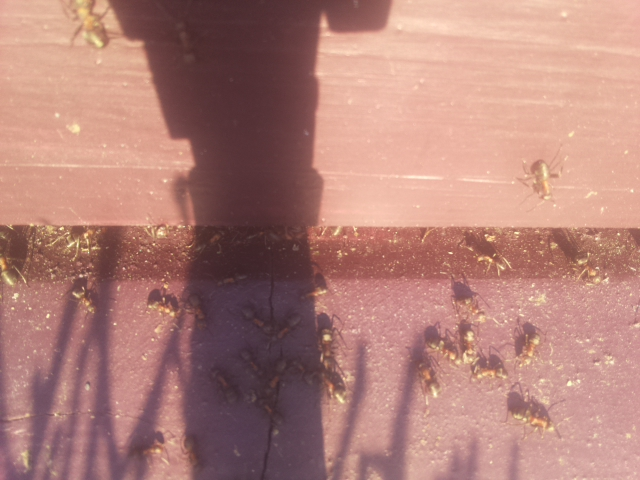ant: (58, 0, 121, 61), (163, 14, 208, 70), (458, 228, 513, 273), (179, 430, 210, 479), (527, 156, 558, 203), (315, 319, 341, 374), (297, 274, 338, 306), (444, 270, 480, 306), (416, 355, 443, 402), (511, 406, 556, 434), (209, 366, 240, 405), (517, 324, 541, 374), (67, 280, 98, 318), (184, 288, 210, 331), (572, 249, 603, 284), (143, 290, 180, 319), (0, 251, 26, 292), (276, 307, 305, 341), (234, 304, 268, 331), (238, 344, 262, 378)
